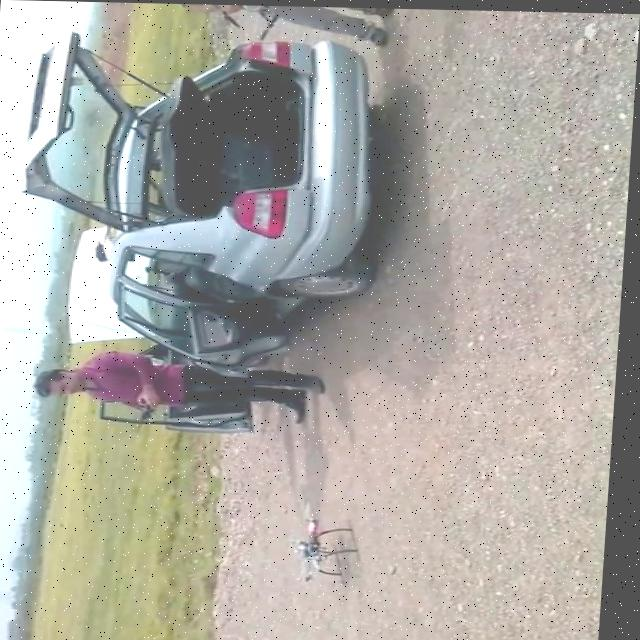drone: (287, 511, 368, 584)
